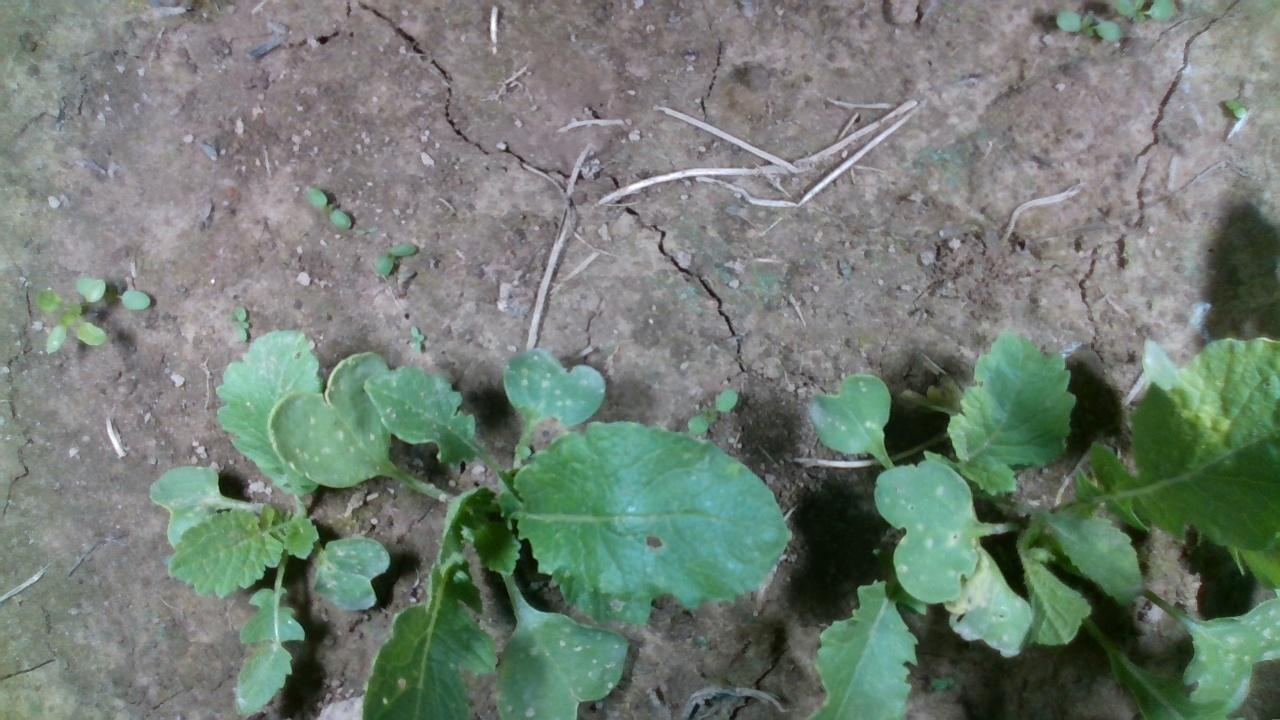weed: (686, 387, 739, 433), (304, 186, 351, 228), (373, 241, 416, 277), (1223, 96, 1247, 120), (407, 324, 425, 354), (233, 305, 247, 341)
